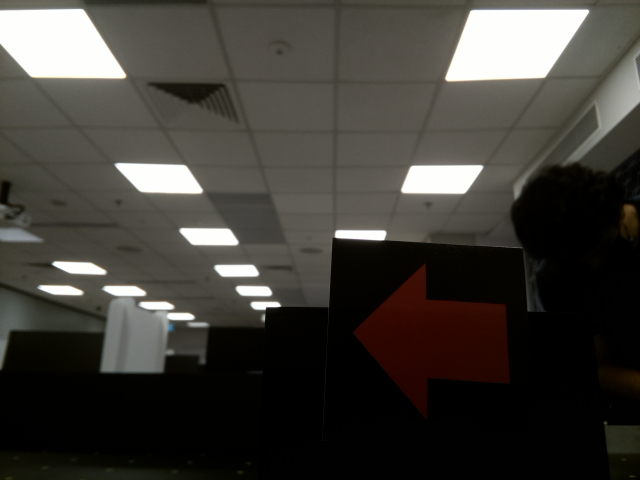left: (347, 258, 514, 418)
